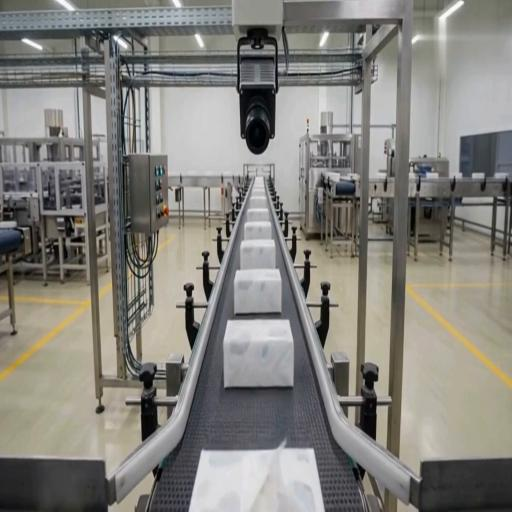defective: (184, 444, 335, 512)
good: (223, 320, 294, 387), (234, 269, 281, 314), (240, 240, 275, 269), (244, 221, 272, 240), (247, 208, 269, 221), (250, 197, 267, 209)
